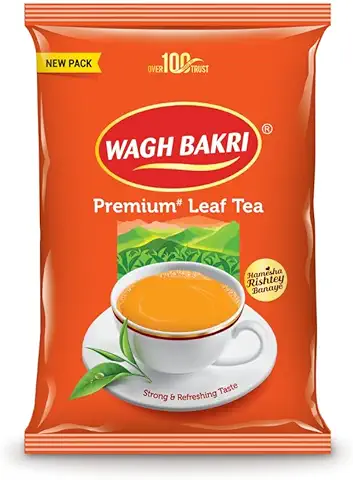Tea: (22, 3, 337, 462)
